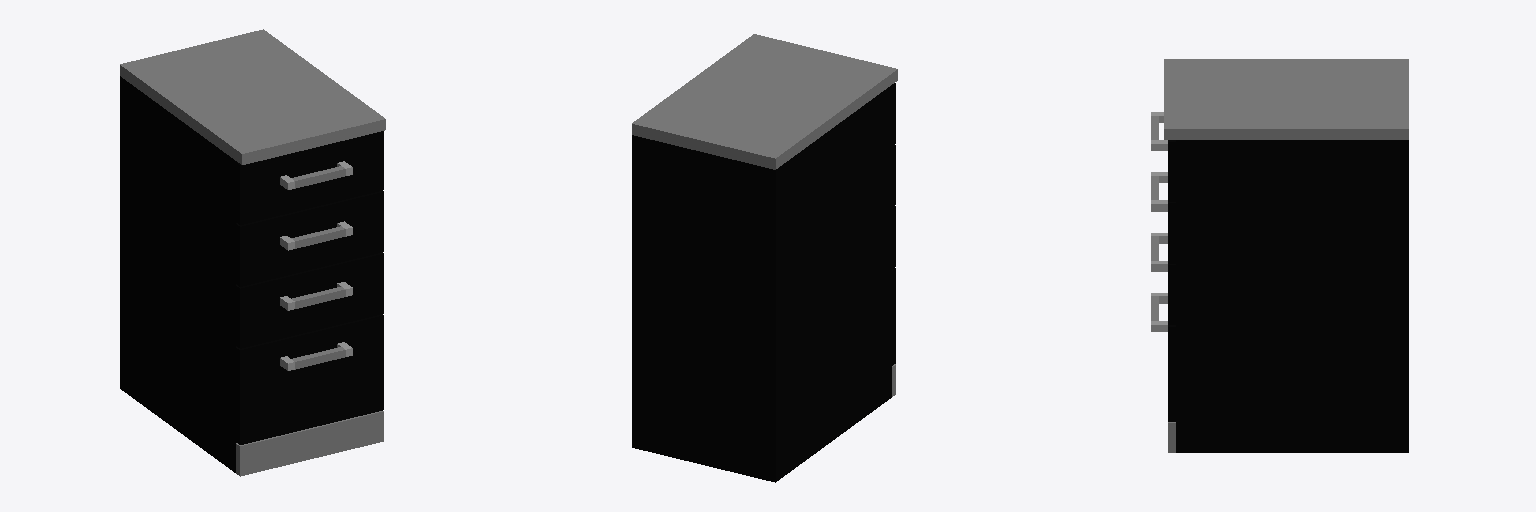
Rendered from drawers.obj.
3 views of the same model, side by side, from view 1: azimuth 30°, elevation 25°; view 2: azimuth 150°, elevation 25°; view 3: azimuth 270°, elevation 25° (orthographic).
Parts seen in each view (by area): view 1: Cube.001_Cube.001, Cube_Cube.002, Cube.003_Cube.001, Cube.002_Cube.001, Cube.005_Cube.001, Cube.004_Cube.001; view 2: Cube_Cube.002, Cube.003_Cube.001, Cube.001_Cube.001; view 3: Cube_Cube.002, Cube.003_Cube.001, Cube.001_Cube.001, Cube.004_Cube.001, Cube.005_Cube.001.
Part boxes in pixels (bbox=[...]): Cube.001_Cube.001: bbox=[236, 131, 383, 444]; Cube_Cube.002: bbox=[120, 76, 236, 472]; Cube.003_Cube.001: bbox=[120, 29, 385, 164]; Cube.002_Cube.001: bbox=[236, 411, 383, 476]; Cube.005_Cube.001: bbox=[291, 166, 345, 369]; Cube.004_Cube.001: bbox=[280, 161, 352, 370]; Cube_Cube.002: bbox=[632, 85, 891, 482]; Cube.003_Cube.001: bbox=[632, 34, 897, 169]; Cube.001_Cube.001: bbox=[892, 83, 895, 365]; Cube_Cube.002: bbox=[1176, 140, 1408, 452]; Cube.003_Cube.001: bbox=[1164, 59, 1408, 139]; Cube.001_Cube.001: bbox=[1168, 140, 1175, 421]; Cube.004_Cube.001: bbox=[1151, 112, 1167, 331]; Cube.005_Cube.001: bbox=[1151, 116, 1158, 320].
Size of the model in its own units: 40 by 86 by 62.